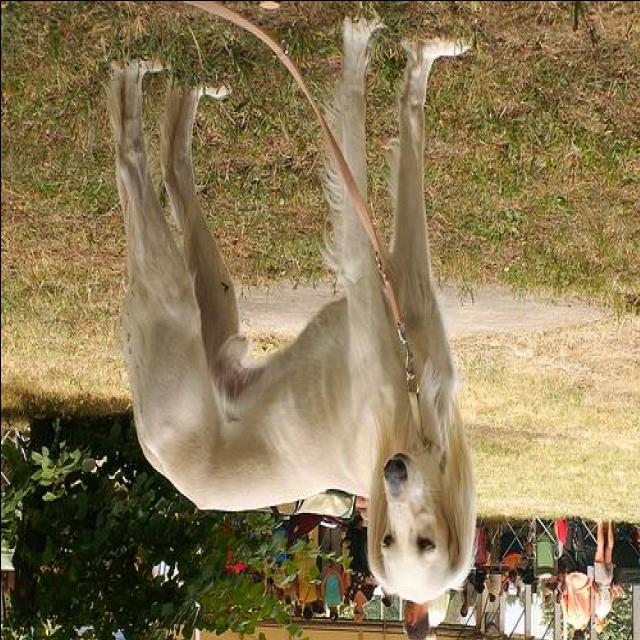saluki: (106, 10, 480, 606)
